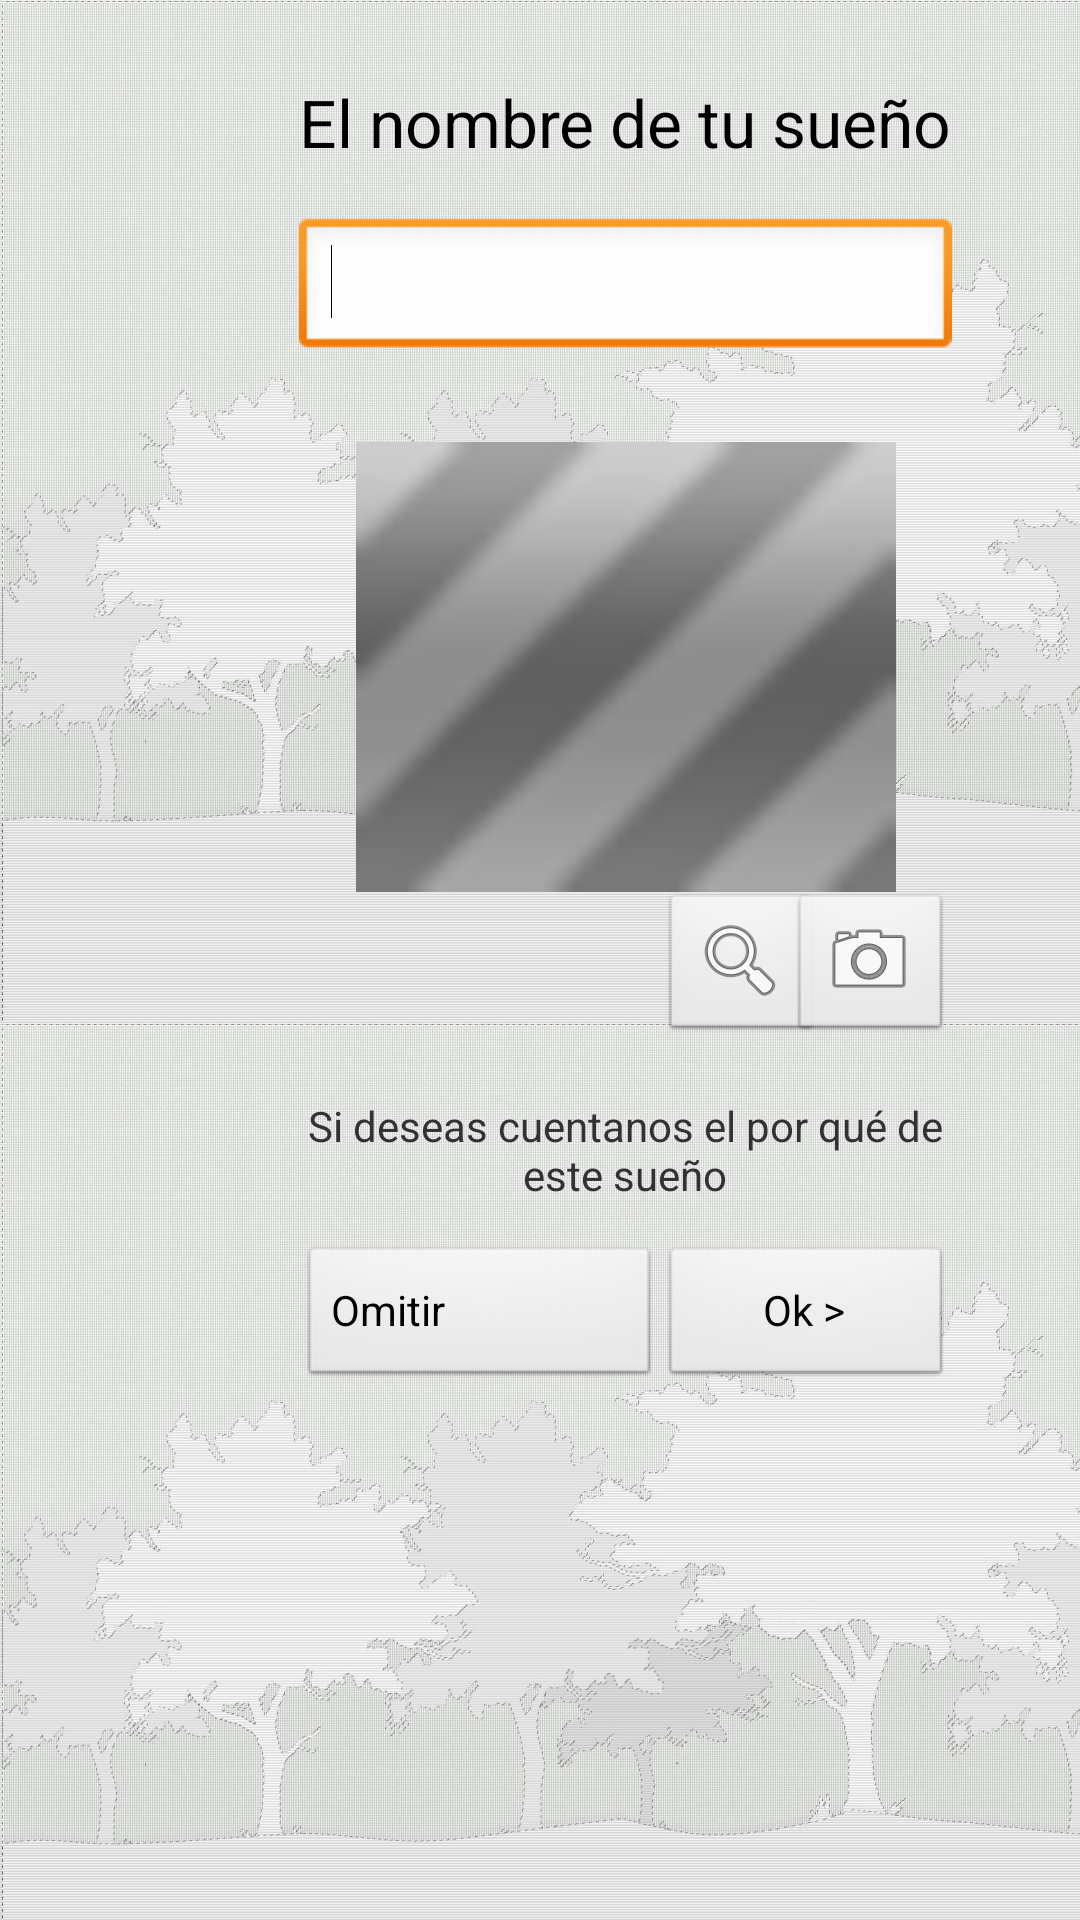

Icons on this 1080px×1920px Android screen, each with its box as (x1, y1, x2, y2):
camera: (791, 896, 952, 1043)
search: (661, 894, 823, 1043)
